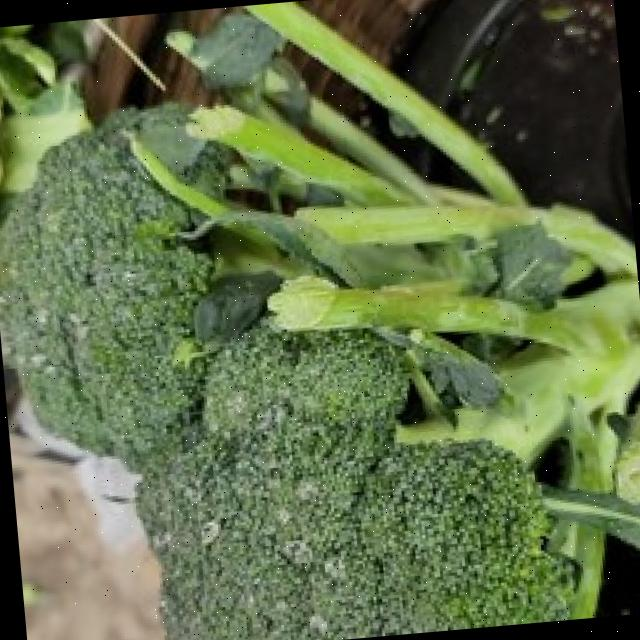Broccoli: (145, 325, 572, 640), (139, 328, 570, 640), (3, 118, 212, 473), (3, 121, 211, 464)
